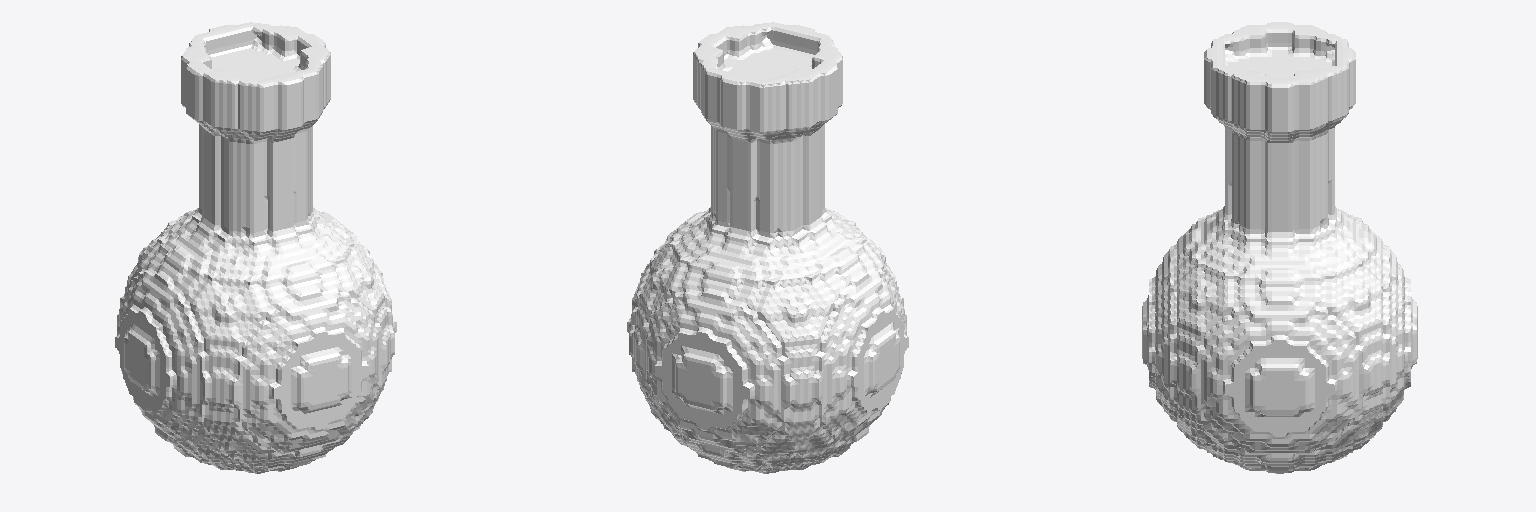
The model's file is potion2.obj.
3 views of the same model, side by side, from view 1: azimuth 30°, elevation 25°; view 2: azimuth 150°, elevation 25°; view 3: azimuth 270°, elevation 25° (orthographic).
Visible parts, largest first — view 1: Potion1; view 2: Potion1; view 3: Potion1.
Boxes of the visible parts, x1,y1,x2,y2 form: Potion1: [115, 22, 396, 473]; Potion1: [627, 22, 908, 473]; Potion1: [1142, 22, 1417, 473].
Bounding box in the file's own units: 4 × 6.5 × 4.